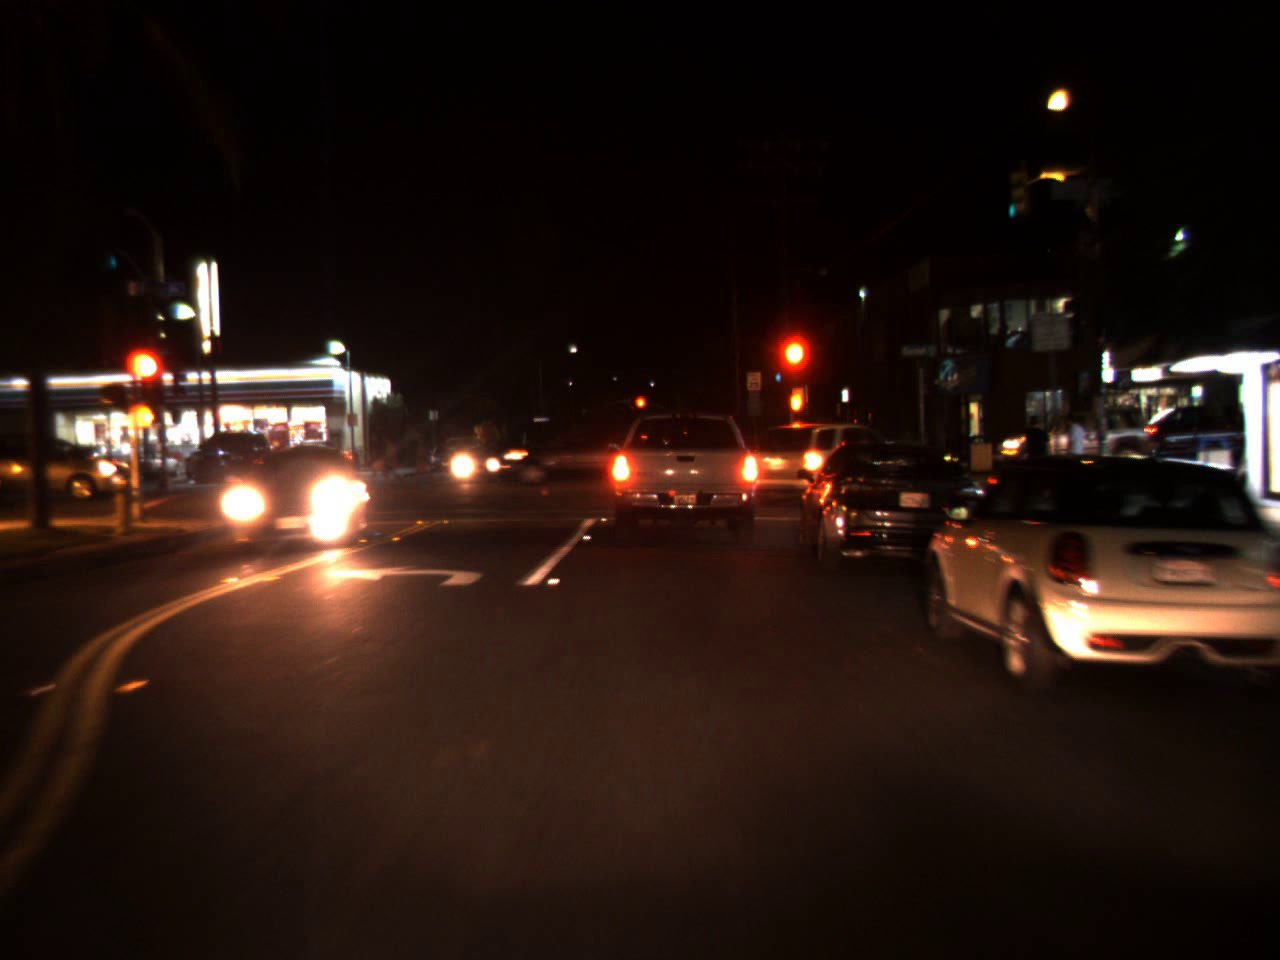stop: (126, 342, 169, 419), (771, 335, 805, 391), (633, 394, 648, 423)
